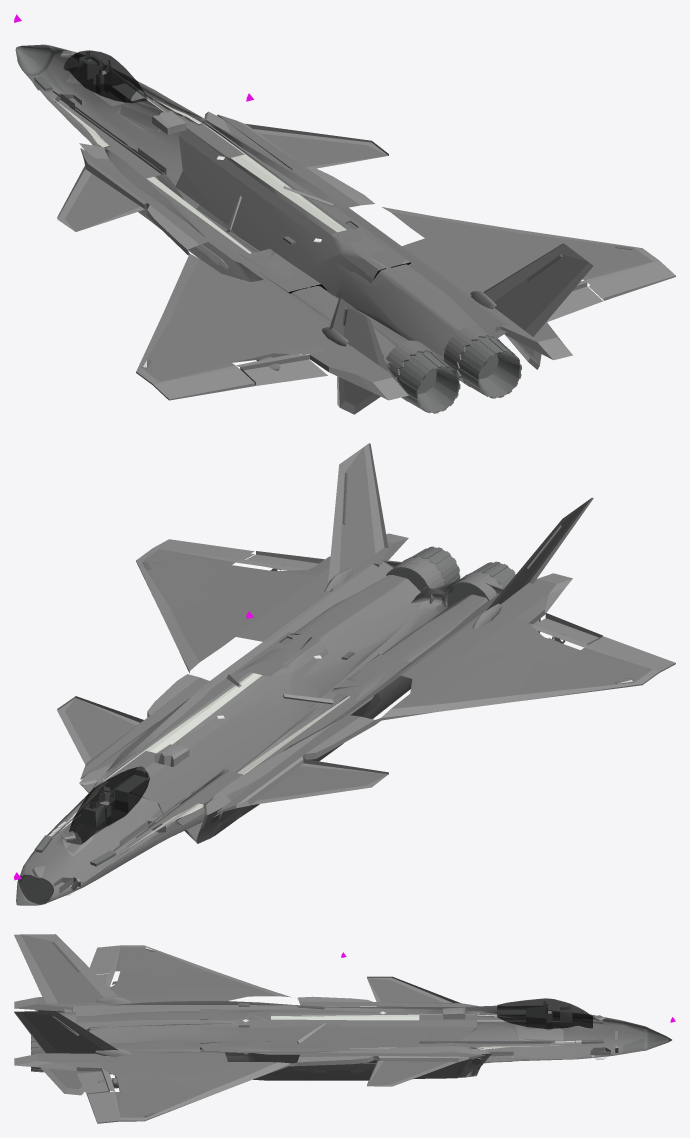
File: fighter.glb
3 views of the same model, one above another, from view 1: azimuth 30°, elevation 25°; view 2: azimuth 150°, elevation 25°; view 3: azimuth 270°, elevation 25° (orthographic). The views are drawn at different scales.
Visible parts, largest first — view 1: Body_2, Body_4, Body_5, Body_3, Body_28, Body_10; view 2: Body_2, Body_4, Body_5, Body_3, Body_28, Body_10; view 3: Body_2, Body_4, Body_3, Body_28, Body_5, Body_10.
Boxes of the visible parts, x1=… form: Body_2: x1=28, y1=48, x2=657, y2=405; Body_4: x1=57, y1=50, x2=675, y2=400; Body_5: x1=15, y1=44, x2=632, y2=413; Body_3: x1=63, y1=71, x2=593, y2=414; Body_28: x1=63, y1=50, x2=147, y2=103; Body_10: x1=51, y1=97, x2=346, y2=253; Body_2: x1=24, y1=443, x2=675, y2=898; Body_4: x1=57, y1=533, x2=675, y2=843; Body_5: x1=16, y1=546, x2=632, y2=905; Body_3: x1=32, y1=443, x2=591, y2=877; Body_28: x1=66, y1=766, x2=149, y2=844; Body_10: x1=59, y1=673, x2=350, y2=852; Body_2: x1=14, y1=934, x2=643, y2=1123; Body_4: x1=14, y1=945, x2=605, y2=1122; Body_3: x1=14, y1=934, x2=563, y2=1095; Body_28: x1=497, y1=998, x2=592, y2=1029; Body_5: x1=31, y1=948, x2=671, y2=1116; Body_10: x1=271, y1=1014, x2=559, y2=1049.
Bounding box in the file's own units: 18.89 × 5.75 × 30.15.
Materials: 29 (28 with a texture image).
